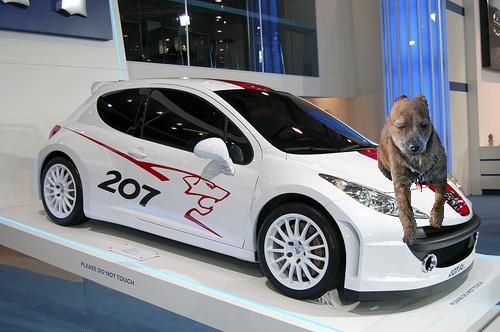tampered: (377, 95, 447, 245)
